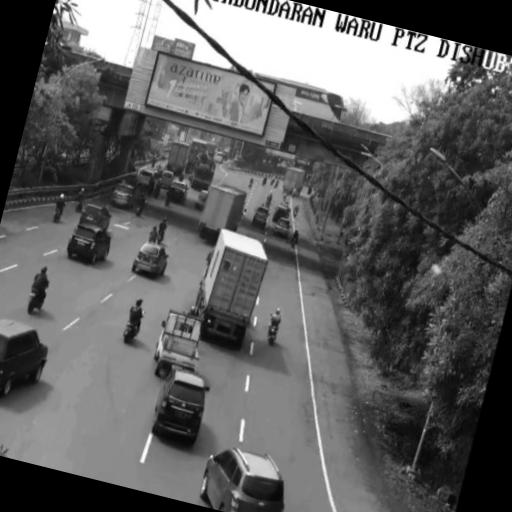car: (208, 444, 302, 512), (0, 296, 56, 409), (153, 366, 214, 448), (68, 218, 110, 268), (133, 242, 174, 282), (76, 194, 116, 232), (112, 182, 145, 214), (138, 160, 164, 192), (170, 176, 196, 206)
motorcycle: (22, 258, 60, 316), (118, 296, 148, 347), (48, 192, 72, 228), (146, 221, 162, 248), (74, 184, 90, 210)
truck: (192, 222, 280, 350), (196, 230, 268, 349), (151, 303, 207, 379), (154, 311, 201, 377), (198, 185, 246, 236), (191, 153, 216, 191), (166, 141, 190, 176), (186, 138, 207, 176), (283, 167, 305, 195), (207, 141, 217, 160)
